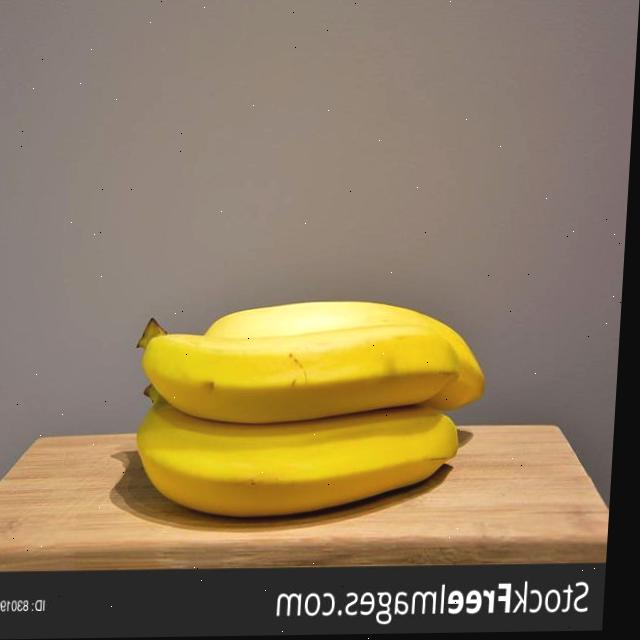banana: (120, 370, 470, 524), (170, 283, 500, 431), (123, 311, 468, 436)
